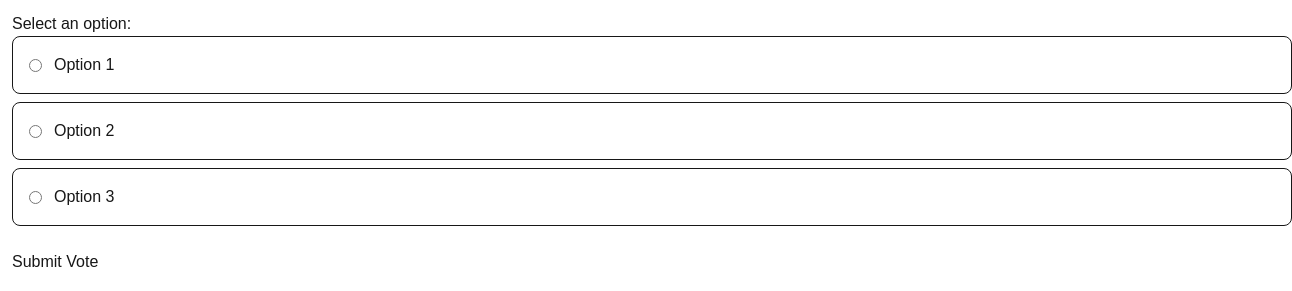
Test: PollVoteForm › shows loading state during submission
Select an option
What coordinates should you click on to do the following:
click the radio button showing "option-1"
I would click on:
 (36, 65)
Its box is [29,58,42,72].
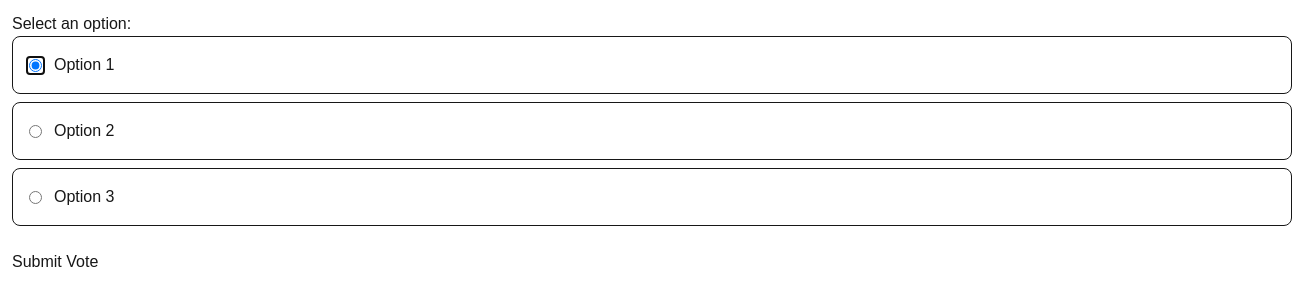
Submit vote
What coordinates should you click on to do the following:
click the button "Submit Vote"
I would click on:
 (55, 262)
Its box is [12,250,98,274].
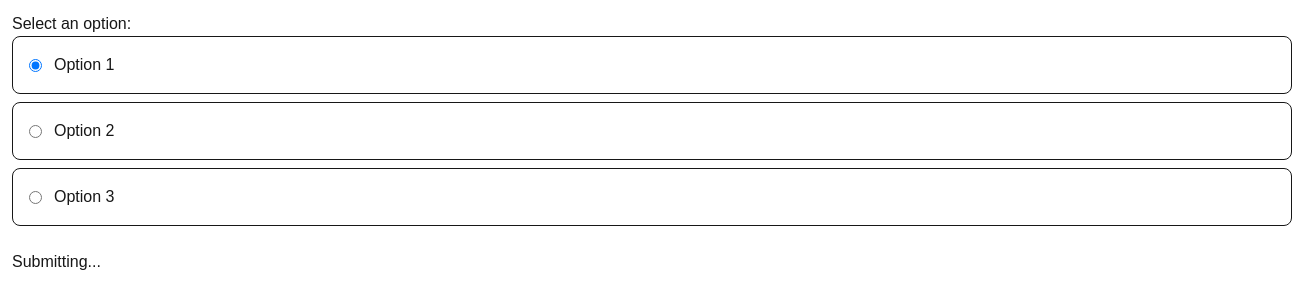
expect the button named "submit vote" is disabled: met, box [12,250,101,274]
expect the button named "submit vote" reads "Submitting...": met, box [12,250,101,274]
